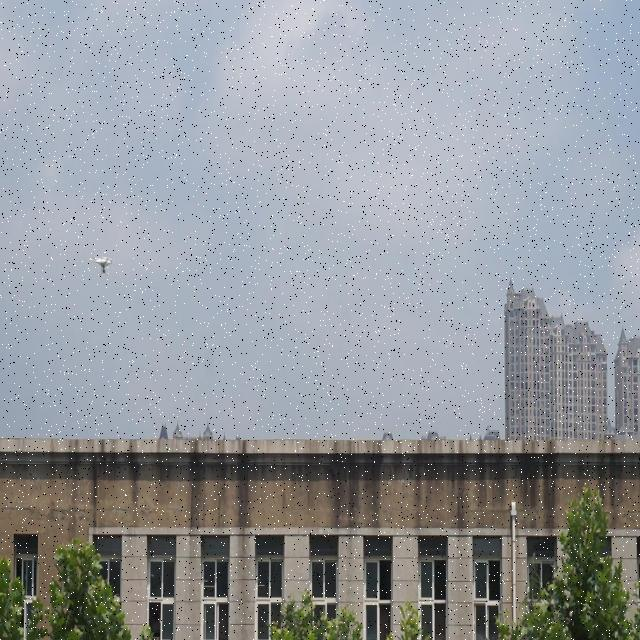UAV: (88, 256, 113, 276)
